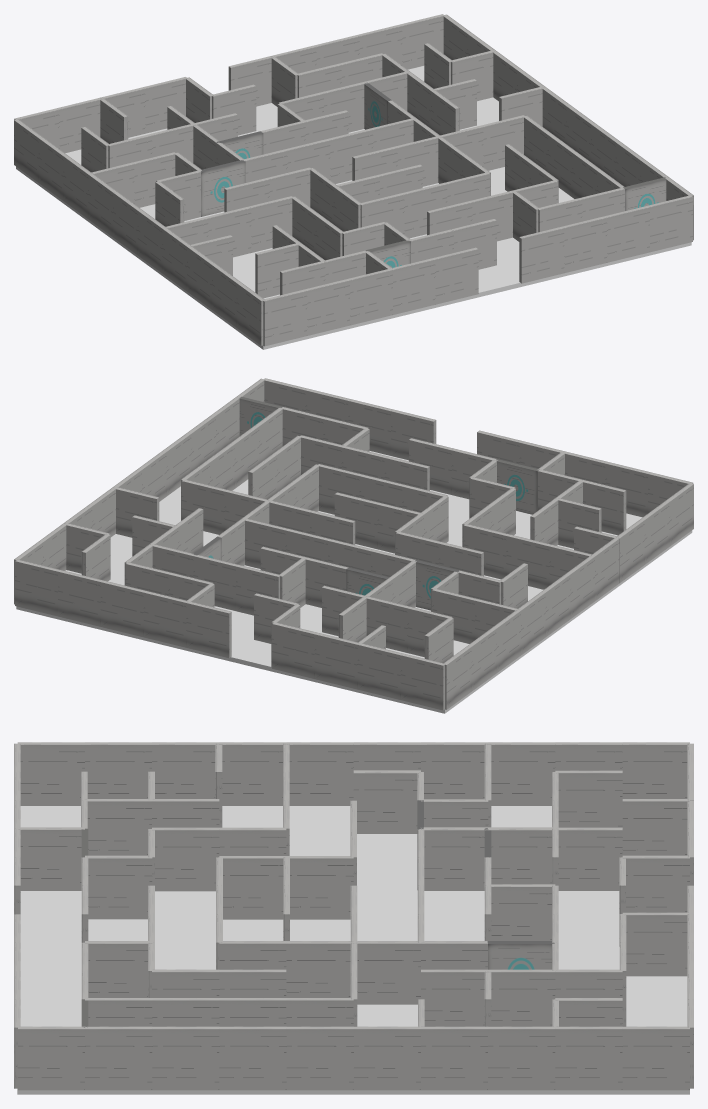
The model's file is Maze_OrangeD.fbx.
3 renders of one model, top to bottom at view 1: azimuth 30°, elevation 25°; view 2: azimuth 150°, elevation 25°; view 3: azimuth 270°, elevation 25°, orthographic. The views are drawn at different scales.
Parts seen in each view (by area): view 1: pCube1, pCube7, pCube6, pCube2, pCube8, pCube5, pCube4, pCube10, pCube9, pCube3, pCube13, pCube67 (+94 smaller); view 2: pCube1, pCube39, pCube17, pCube15, pCube16, pCube18, pCube19, pCube13, pCube12, pCube14, pCube68, pCube48 (+91 smaller); view 3: pCube1, pCube31, pCube36, pCube30, pCube32, pCube35, pCube29, pCube37, pCube38, pCube34, pCube33, pCube27 (+44 smaller).
Boxes of the visible parts, bbox=[...] form: pCube1: bbox=[16, 66, 691, 349]; pCube7: bbox=[519, 226, 564, 283]; pCube6: bbox=[262, 289, 307, 346]; pCube2: bbox=[433, 247, 478, 304]; pCube8: bbox=[562, 216, 607, 273]; pCube5: bbox=[305, 279, 350, 335]; pCube4: bbox=[348, 268, 392, 325]; pCube10: bbox=[648, 195, 692, 252]; pCube9: bbox=[605, 206, 649, 262]; pCube3: bbox=[392, 258, 435, 314]; pCube13: bbox=[400, 14, 444, 69]; pCube67: bbox=[249, 196, 292, 252]; pCube1: bbox=[16, 451, 692, 713]; pCube39: bbox=[186, 602, 231, 658]; pCube17: bbox=[400, 653, 445, 710]; pCube15: bbox=[100, 580, 145, 637]; pCube16: bbox=[143, 591, 187, 647]; pCube18: bbox=[357, 643, 402, 699]; pCube19: bbox=[314, 632, 358, 689]; pCube13: bbox=[15, 559, 59, 616]; pCube12: bbox=[272, 622, 316, 678]; pCube14: bbox=[58, 570, 102, 626]; pCube68: bbox=[506, 534, 551, 589]; pCube48: bbox=[181, 480, 226, 534]; pCube1: bbox=[17, 806, 689, 1094]; pCube31: bbox=[219, 1026, 286, 1090]; pCube36: bbox=[555, 1026, 622, 1090]; pCube30: bbox=[286, 1026, 353, 1090]; pCube32: bbox=[152, 1026, 219, 1090]; pCube35: bbox=[488, 1026, 555, 1090]; pCube29: bbox=[85, 1026, 152, 1090]; pCube37: bbox=[622, 1026, 689, 1090]; pCube38: bbox=[421, 1026, 488, 1090]; pCube34: bbox=[353, 1026, 420, 1090]; pCube33: bbox=[18, 1026, 85, 1090]; pCube27: bbox=[286, 742, 353, 805].
Bounding box in the file's own units: 101 × 10.97 × 101.
Materials: 3 (2 with a texture image).
